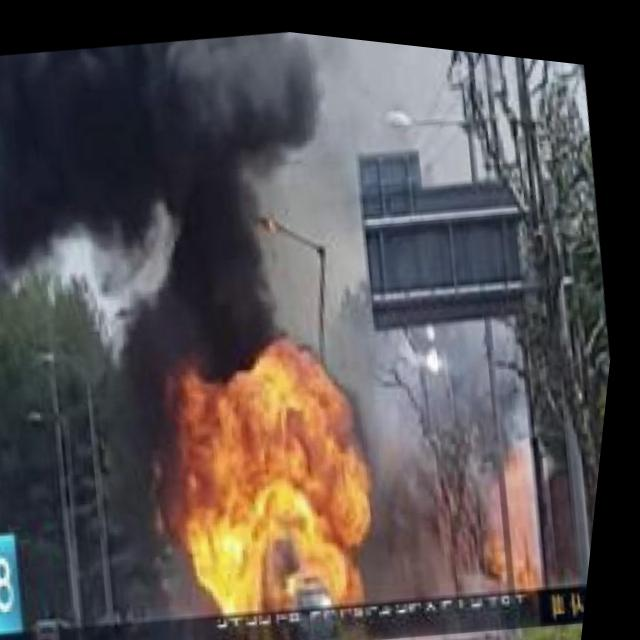Fire: (158, 329, 403, 633)
